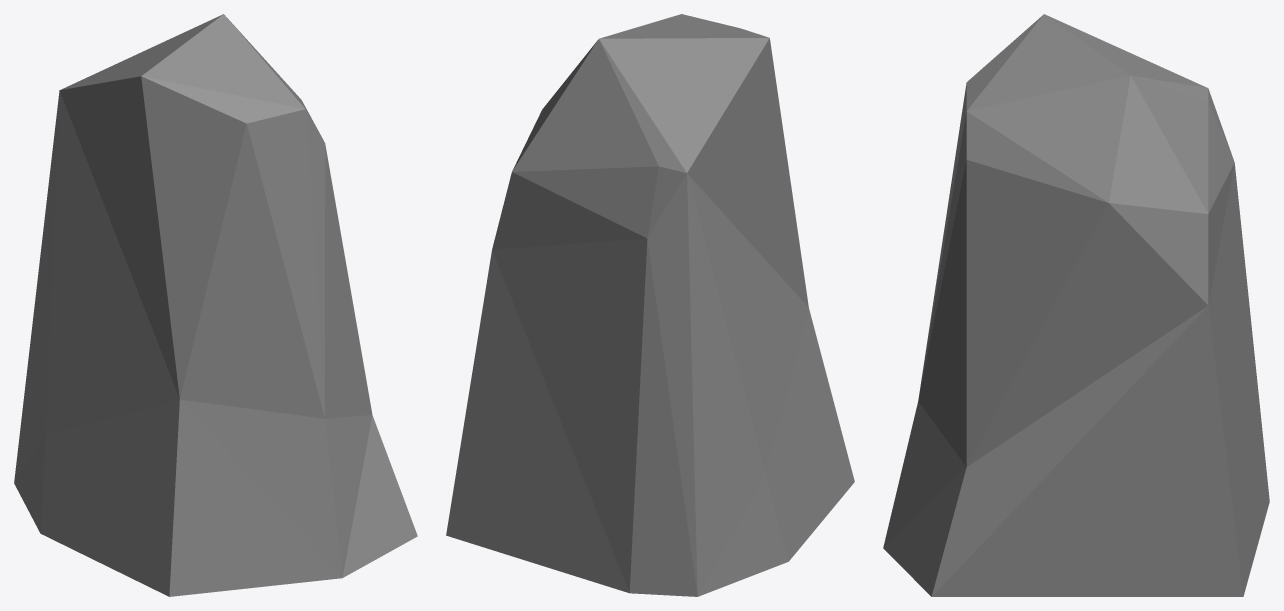
File: Stone_B_06.FBX
3 views of the same model, side by side, from view 1: azimuth 30°, elevation 25°; view 2: azimuth 150°, elevation 25°; view 3: azimuth 270°, elevation 25° (orthographic).
Parts seen in each view (by area): view 1: Stone_B_06; view 2: Stone_B_06; view 3: Stone_B_06.
Part boxes in pixels (<box>): Stone_B_06: <box>14,14,417,596</box>; Stone_B_06: <box>446,14,854,596</box>; Stone_B_06: <box>883,14,1269,596</box>.
Size of the model in its own units: 3.46 by 5.58 by 4.12.
